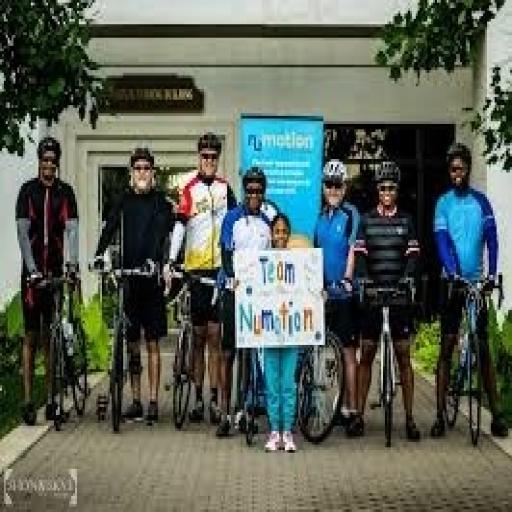cycling: (88, 143, 181, 428), (427, 140, 510, 445), (162, 130, 240, 428), (348, 159, 428, 447), (14, 135, 84, 428), (216, 164, 281, 442), (310, 156, 364, 440), (252, 210, 312, 456)
